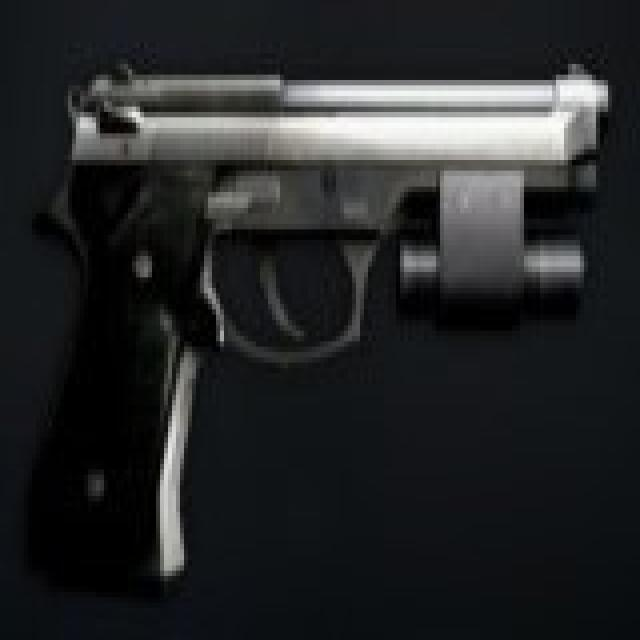Gun: (41, 55, 605, 579)
